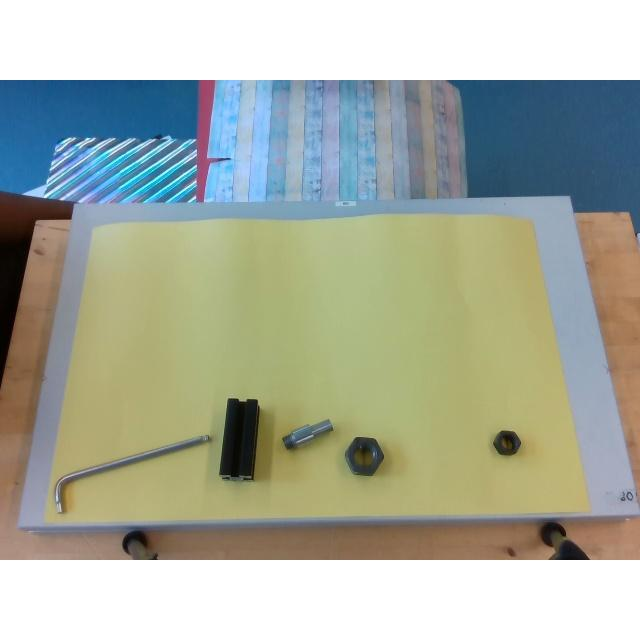AllenKey: (53, 435, 209, 513)
Axis2: (282, 419, 332, 448)
M20: (492, 430, 520, 454)
M30: (345, 437, 383, 475)
S40_40_B: (219, 398, 259, 480)
